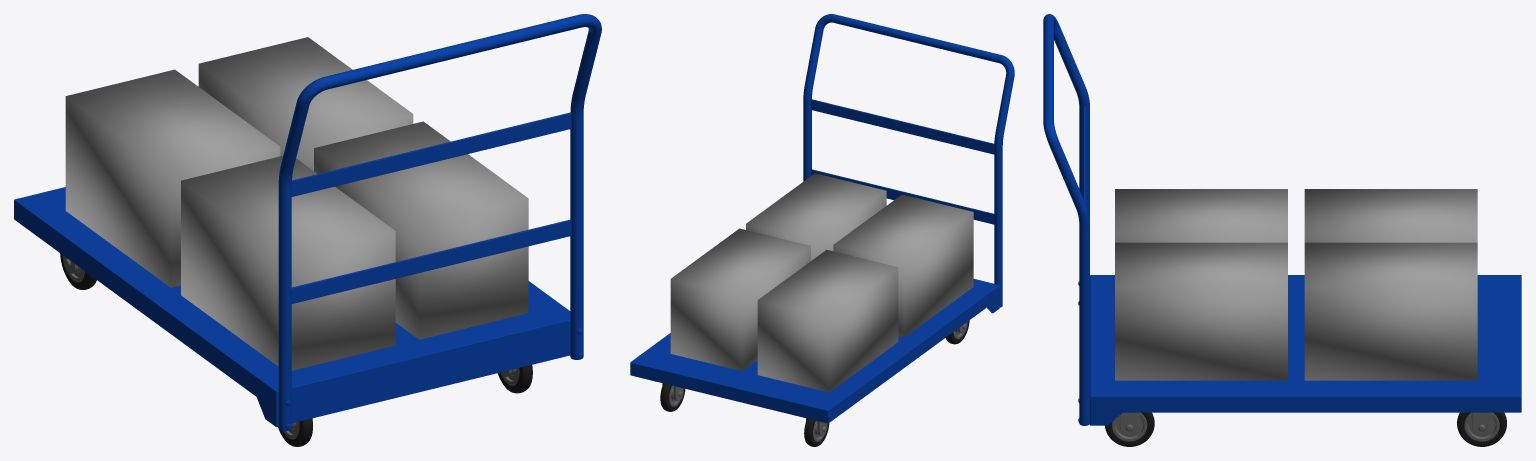
Rendered from car.glb.
3 views of the same model, side by side, from view 1: azimuth 30°, elevation 25°; view 2: azimuth 150°, elevation 25°; view 3: azimuth 270°, elevation 25° (orthographic). The views are drawn at different scales.
Parts seen in each view (by area): view 1: Obj3d66_517576_1_12, Box1709, Box1706, Box1711, Box1710, Obj3d66_517576_2_608, Obj3d66_517576_3_548; view 2: Obj3d66_517576_1_12, Box1706, Box1710, Box1709, Box1711, Obj3d66_517576_2_608, Obj3d66_517576_3_548; view 3: Obj3d66_517576_1_12, Box1710, Box1711, Box1706, Box1709, Obj3d66_517576_3_548, Obj3d66_517576_2_608.
Part boxes in pixels (x1=…): Obj3d66_517576_1_12: x1=14, y1=14, x2=601, y2=431; Box1709: x1=181, y1=156, x2=395, y2=370; Box1706: x1=65, y1=69, x2=280, y2=287; Box1711: x1=314, y1=121, x2=528, y2=339; Box1710: x1=198, y1=37, x2=413, y2=170; Obj3d66_517576_2_608: x1=60, y1=253, x2=532, y2=446; Obj3d66_517576_3_548: x1=63, y1=255, x2=519, y2=439; Obj3d66_517576_1_12: x1=630, y1=14, x2=1014, y2=423; Box1706: x1=757, y1=249, x2=898, y2=392; Box1710: x1=670, y1=228, x2=810, y2=370; Box1709: x1=833, y1=194, x2=973, y2=337; Box1711: x1=746, y1=173, x2=886, y2=260; Obj3d66_517576_2_608: x1=660, y1=320, x2=969, y2=446; Obj3d66_517576_3_548: x1=662, y1=322, x2=967, y2=441; Obj3d66_517576_1_12: x1=1043, y1=14, x2=1521, y2=425; Box1710: x1=1304, y1=242, x2=1477, y2=380; Box1711: x1=1115, y1=242, x2=1287, y2=380; Box1706: x1=1304, y1=189, x2=1477, y2=242; Box1709: x1=1115, y1=189, x2=1287, y2=242; Obj3d66_517576_3_548: x1=1112, y1=412, x2=1499, y2=441; Obj3d66_517576_2_608: x1=1105, y1=412, x2=1506, y2=446.
Bounding box in the file's own units: 1055 × 1355 × 1753.
Materials: 4 (4 with a texture image).
